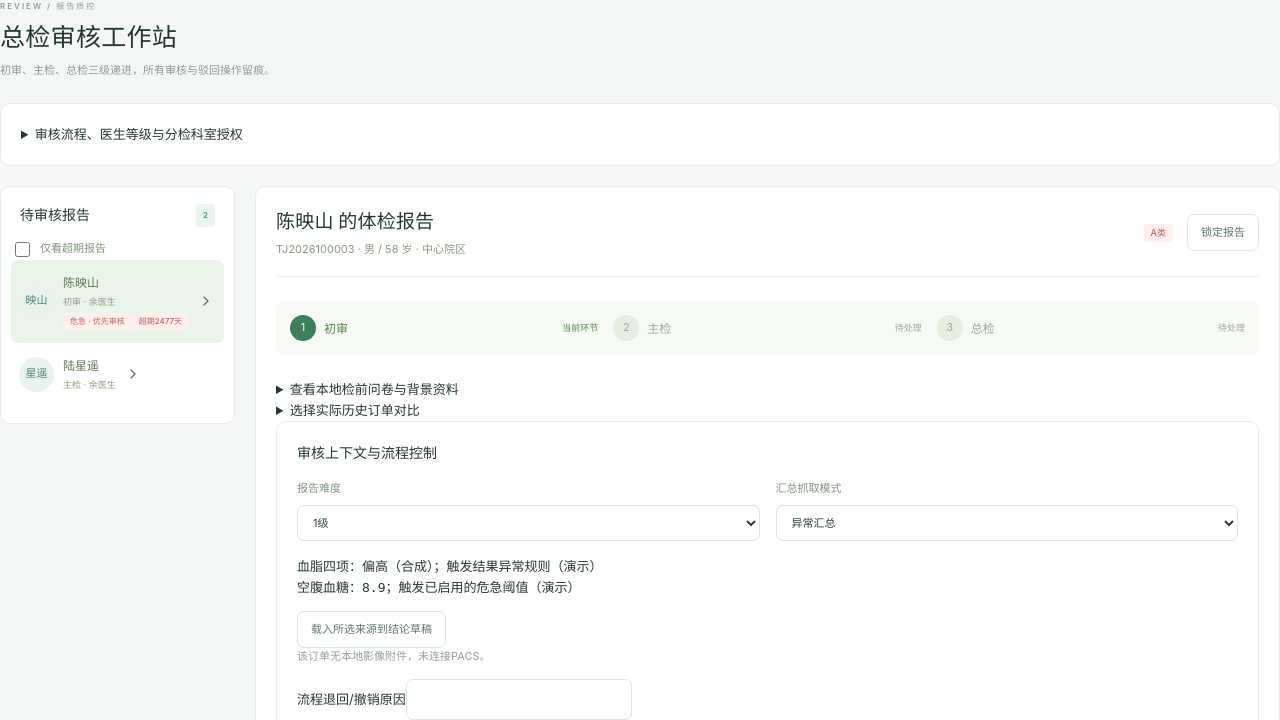
Scenario: advanced frontend scenarios › A05 report overdue filtering derives from date and configured days
expect the text "超期2477天" is shown: met, box top-left (132, 313), bottom-right (189, 330)
Click the checkbox labelled "仅看超期报告" at [22, 249], box top-left (15, 242), bottom-right (30, 257)
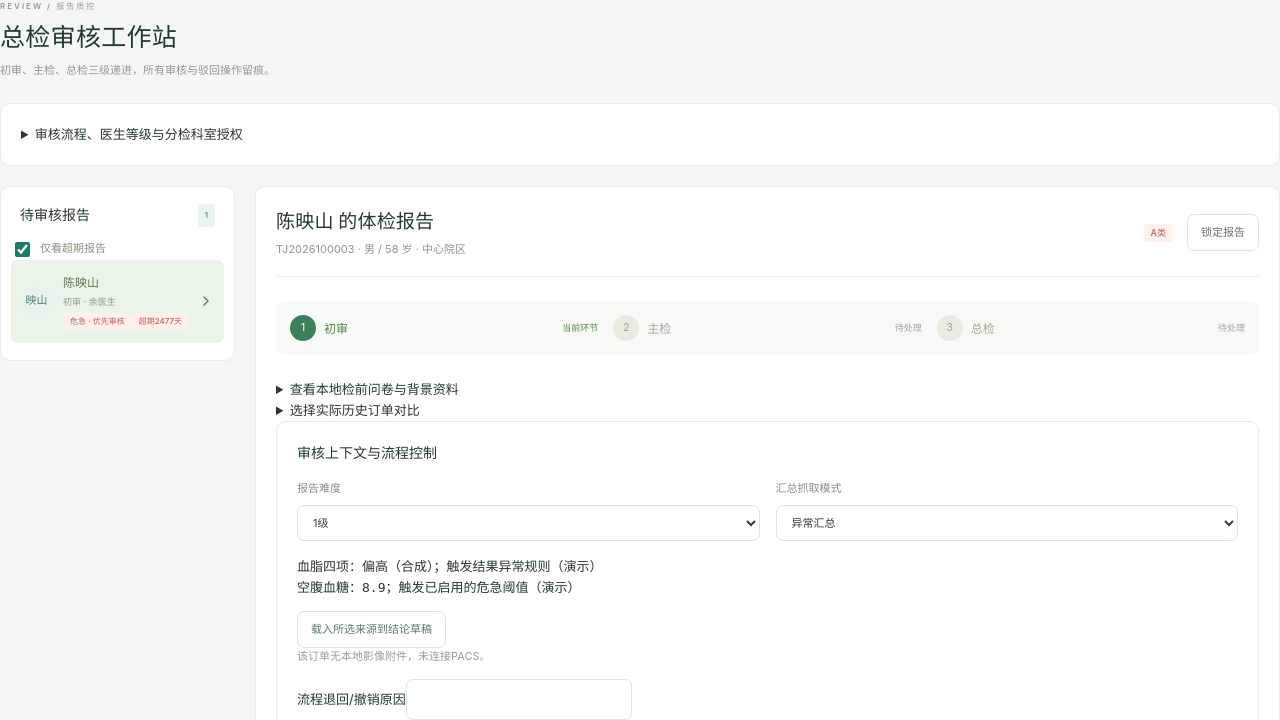
expect the heading "陈映山 的体检报告" is shown: met, box top-left (276, 210), bottom-right (434, 233)
expect the button "陆星遥" is gone: met
